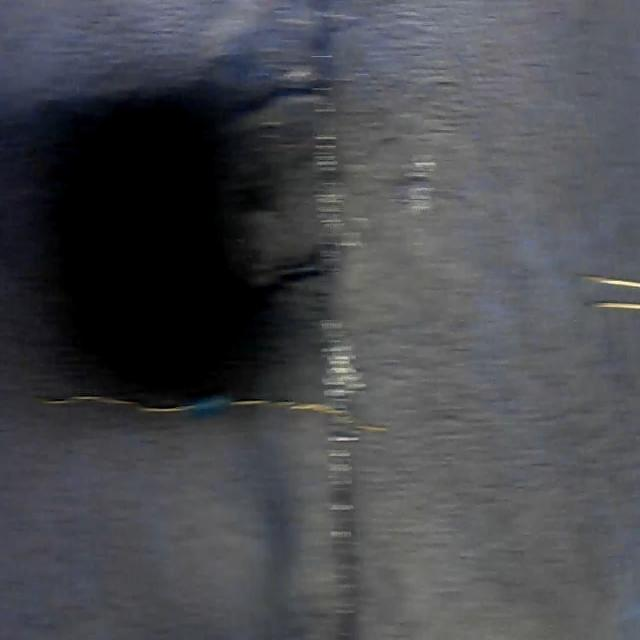resistor: (36, 376, 378, 437)
